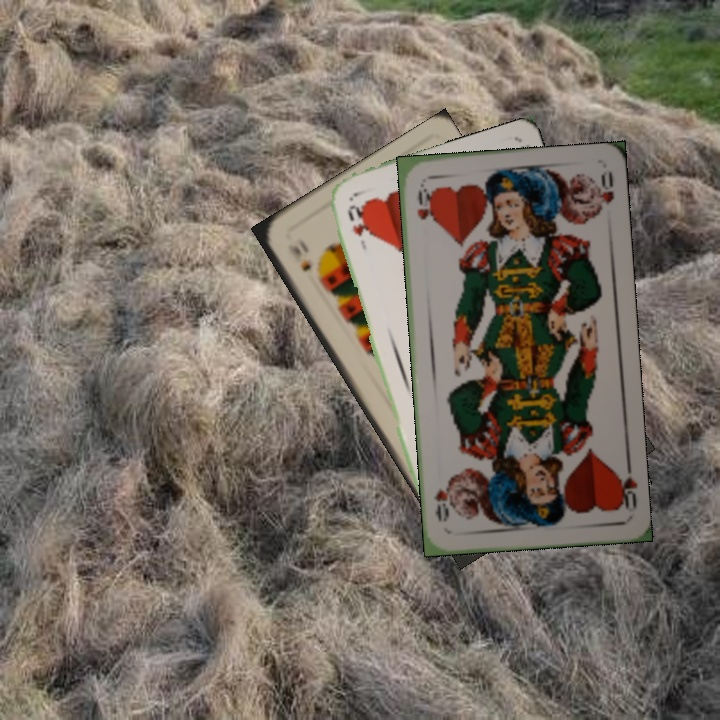HO: (612, 457, 640, 515), (343, 201, 369, 252), (413, 180, 435, 225)
S10: (284, 240, 314, 274)
